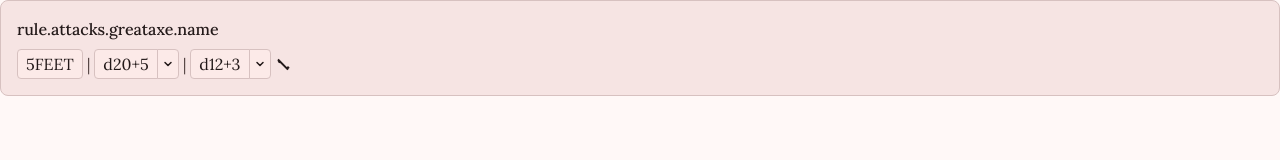
Test: PanelRenderer - dice-line control › cycles range on tap when multiple ranges exist in editable mode
Click the button "5FEET".
click(50, 64)  # box [17, 49, 83, 79]
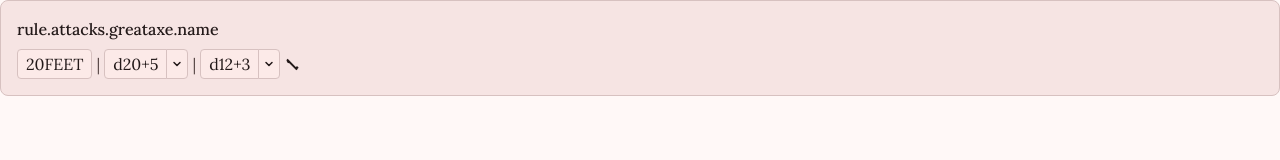
Check: the text "20FEET" is shown, box [17, 49, 92, 79]
